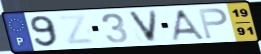3: (101, 12, 129, 44)
9: (29, 15, 60, 48)
A: (169, 8, 207, 42)
P: (196, 7, 229, 40)
V: (126, 9, 160, 44)
Z: (57, 13, 97, 46)
